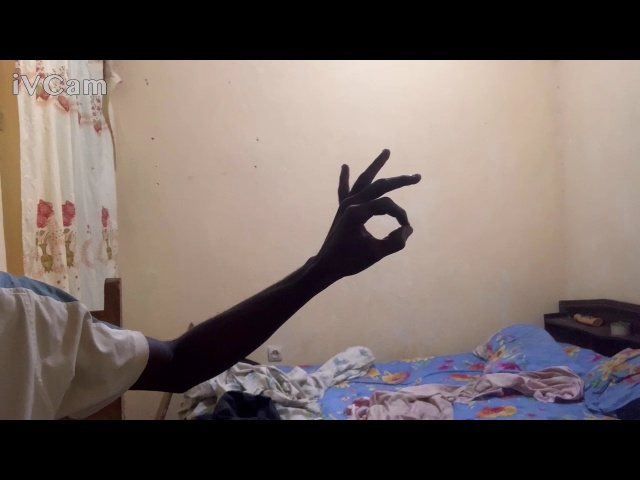oui: (322, 140, 431, 281)
